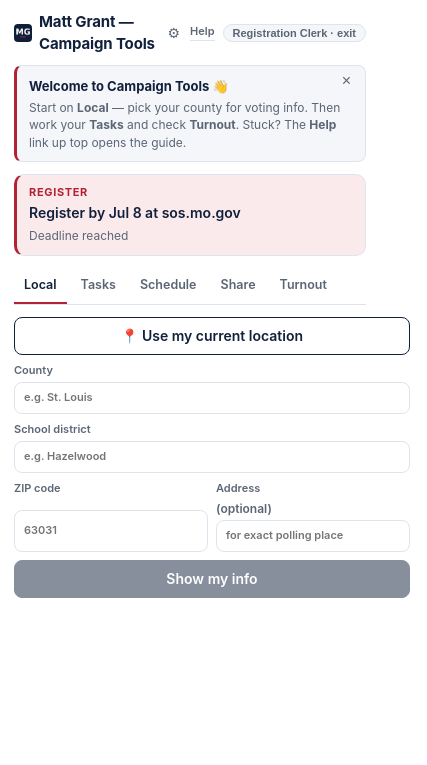
Scenario: App settings + a11y › keeps site tips off and warns when the host grant is denied
The width and height of the screenshot is (427, 765).
expect the tab "Local" is shown: met, box [14,268,66,304]
Click the button named "settings" at {"x": 174, "y": 33}, box [166,24,182,42]
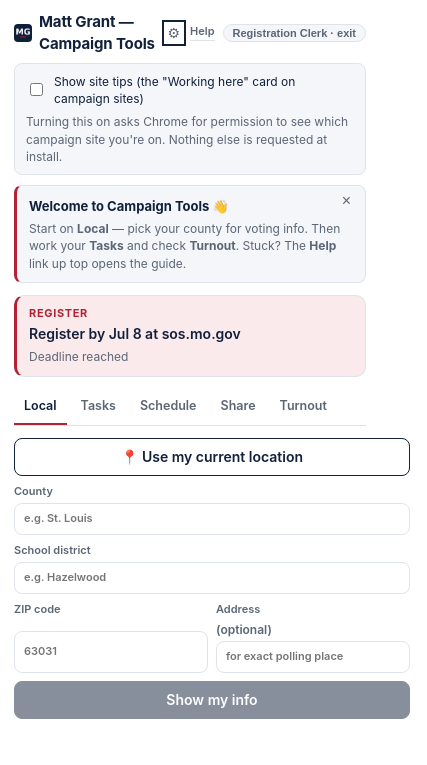
Click the checkbox labelled "Show site tips (the \"Working here\" card on campaign sites)" at {"x": 36, "y": 90}, box [30,83,43,96]
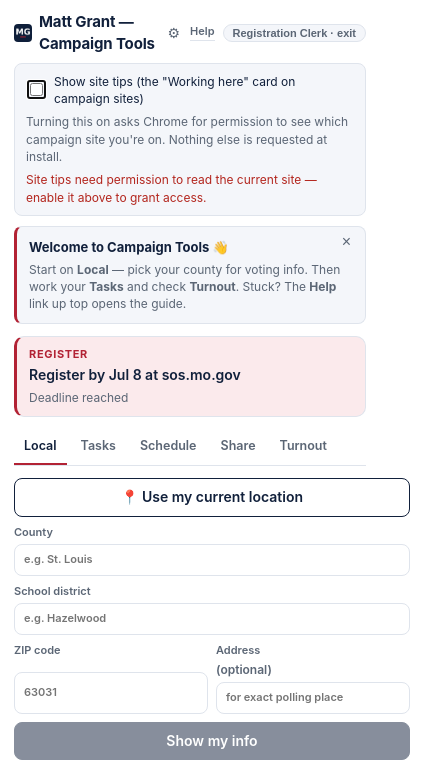
expect the checkbox labelled "Show site tips (the \"Working here\" card on campaign sites)" is not checked: met, box [30,83,43,96]
expect the 1st message shows "need permission": met, box [26,172,317,205]
